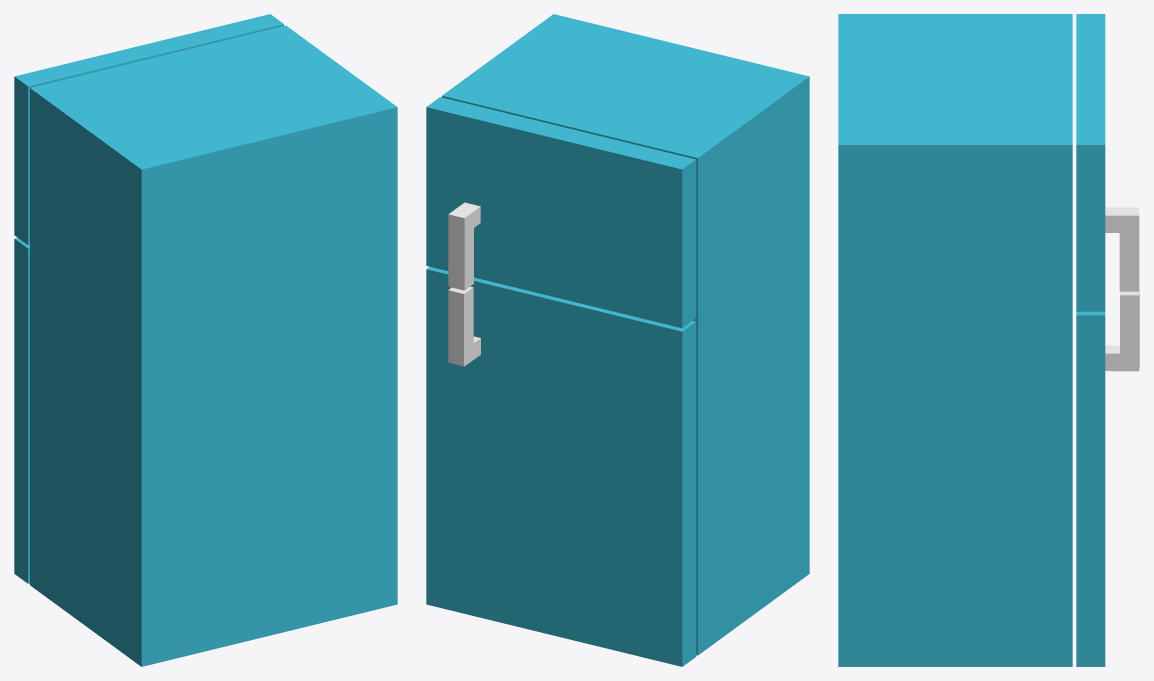
The model's file is Kulkas.fbx.
3 views of the same model, side by side, from view 1: azimuth 30°, elevation 25°; view 2: azimuth 150°, elevation 25°; view 3: azimuth 270°, elevation 25° (orthographic). The views are drawn at different scales.
Visible parts, largest first — view 1: Cube, Cube.002, Cube.001; view 2: Cube.001, Cube, Cube.002, Cube.003, Cube.004; view 3: Cube, Cube.001, Cube.002, Cube.003, Cube.004.
Part boxes in pixels (bbox=[...]): Cube: bbox=[30, 25, 397, 666]; Cube.002: bbox=[14, 14, 283, 245]; Cube.001: bbox=[14, 237, 29, 583]; Cube.001: bbox=[426, 267, 696, 666]; Cube: bbox=[442, 14, 809, 655]; Cube.002: bbox=[426, 97, 696, 328]; Cube.003: bbox=[448, 202, 480, 290]; Cube.004: bbox=[448, 286, 480, 366]; Cube: bbox=[838, 14, 1072, 666]; Cube.001: bbox=[1076, 311, 1105, 666]; Cube.002: bbox=[1076, 14, 1105, 311]; Cube.003: bbox=[1105, 207, 1139, 291]; Cube.004: bbox=[1105, 287, 1139, 371].
Size of the model in its own units: 200 by 371 by 194.
